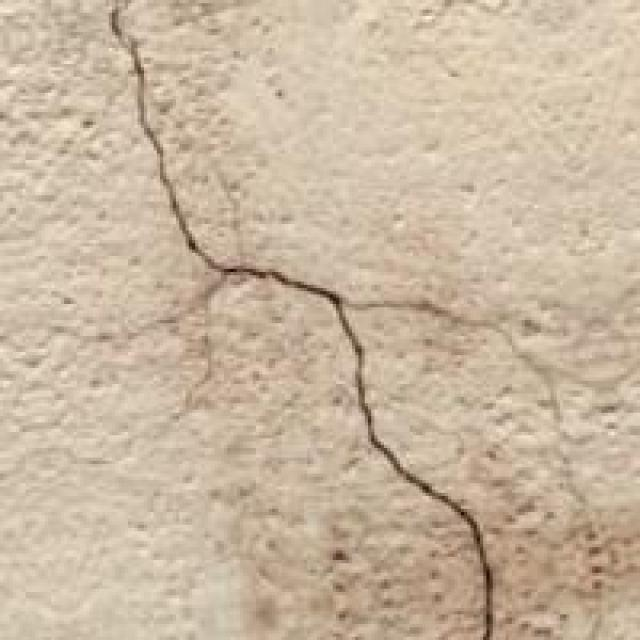Crack: (114, 16, 539, 624)
